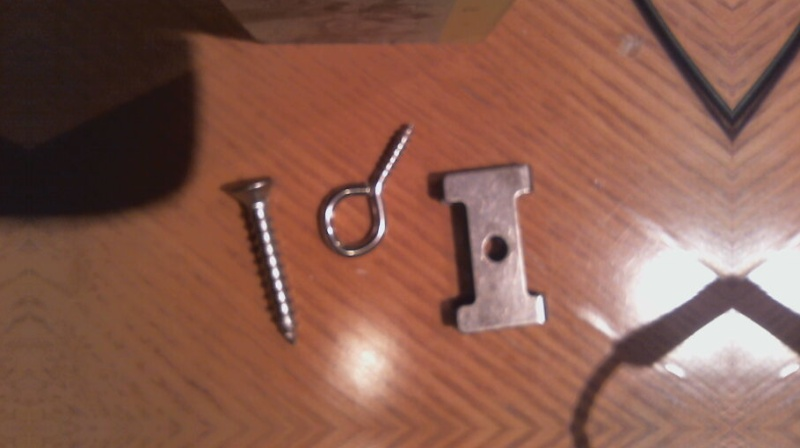O001: (313, 116, 419, 261)
O002: (437, 157, 548, 335)
S001: (227, 170, 303, 346)
